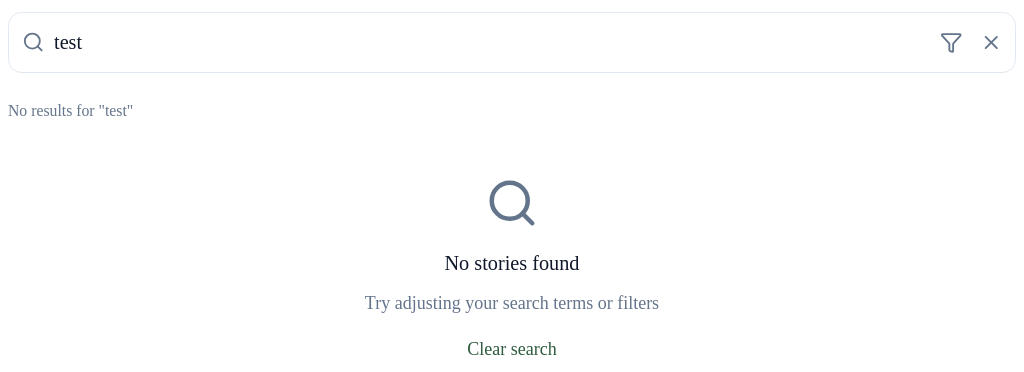
Test: StorySearch › should show and handle suggestions
Click the field with placeholder "Search stories by title or content...".
click(512, 42)  # box x1=8 y1=12 x2=1016 y2=72
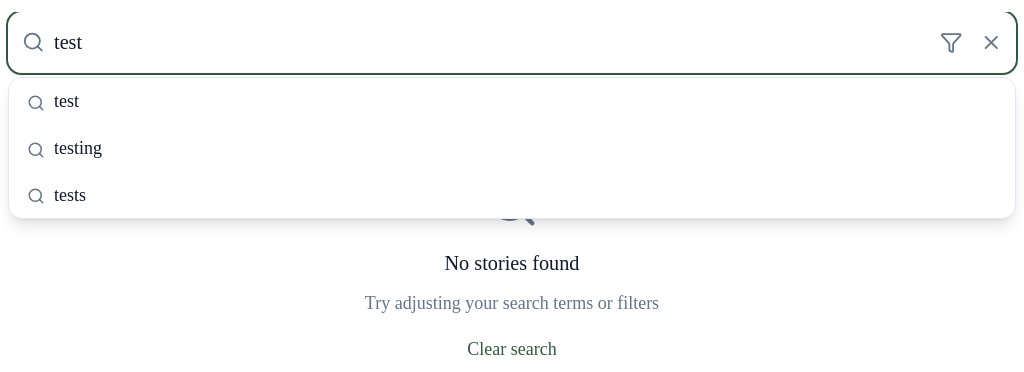
Expected: the option "test" is shown, x1=9 y1=78 x2=1015 y2=125
Expected: the option "testing" is shown, x1=9 y1=125 x2=1015 y2=172
Expected: the option "tests" is shown, x1=9 y1=172 x2=1015 y2=218
